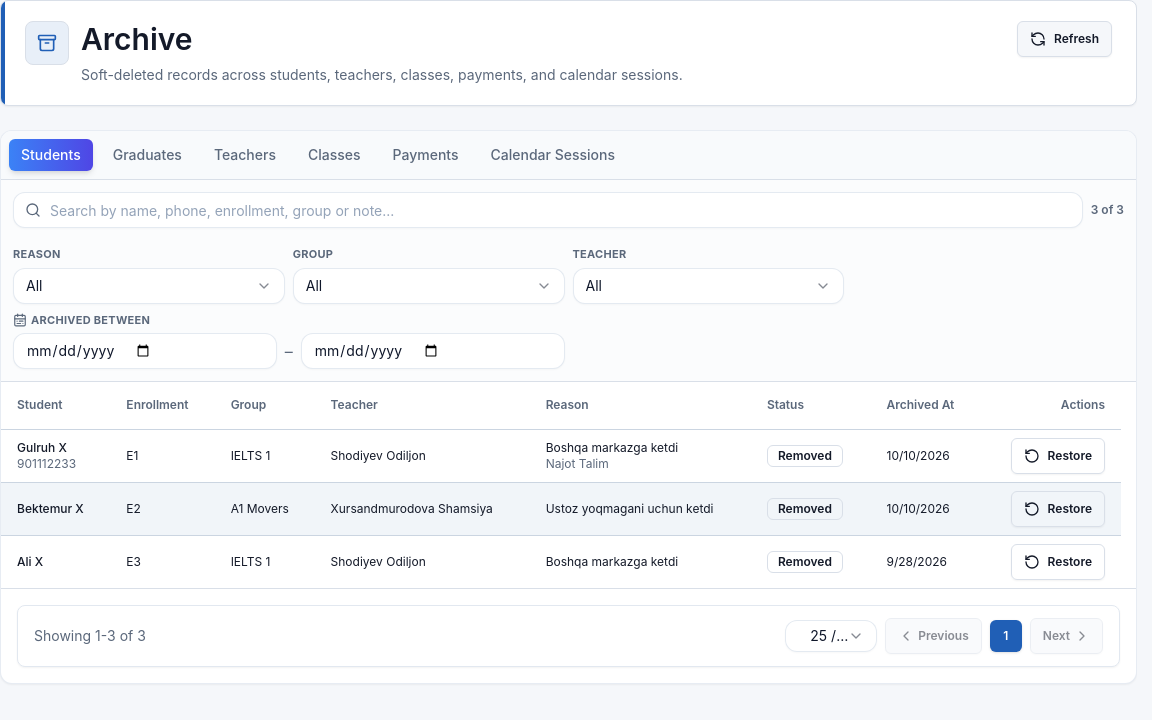
it: archive page search and filters › shows the reason and note, and searches by name, phone or note
Check: the text "Najot Talim" is shown, box [546, 456, 609, 471]
Check: the text "Ustoz yoqmagani uchun ketdi" is shown, box [530, 482, 751, 536]
In the field labelled "Search": (548, 210) [13, 192, 1083, 228], type "najot"
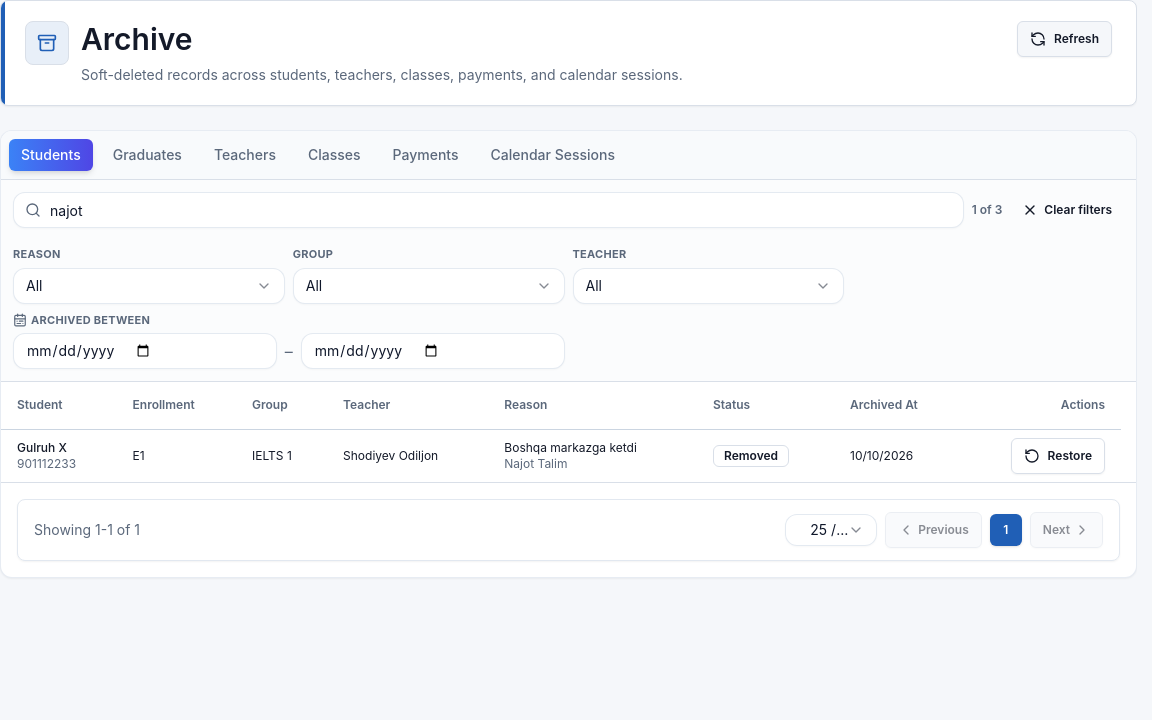
Check: the cell "Gulruh X 901112233" is shown, box [1, 430, 117, 482]
Check: the text "1 of 3" is shown, box [972, 202, 1002, 218]
Replace the text in the field named "Search" with "nobody": (488, 210) [13, 192, 964, 228]
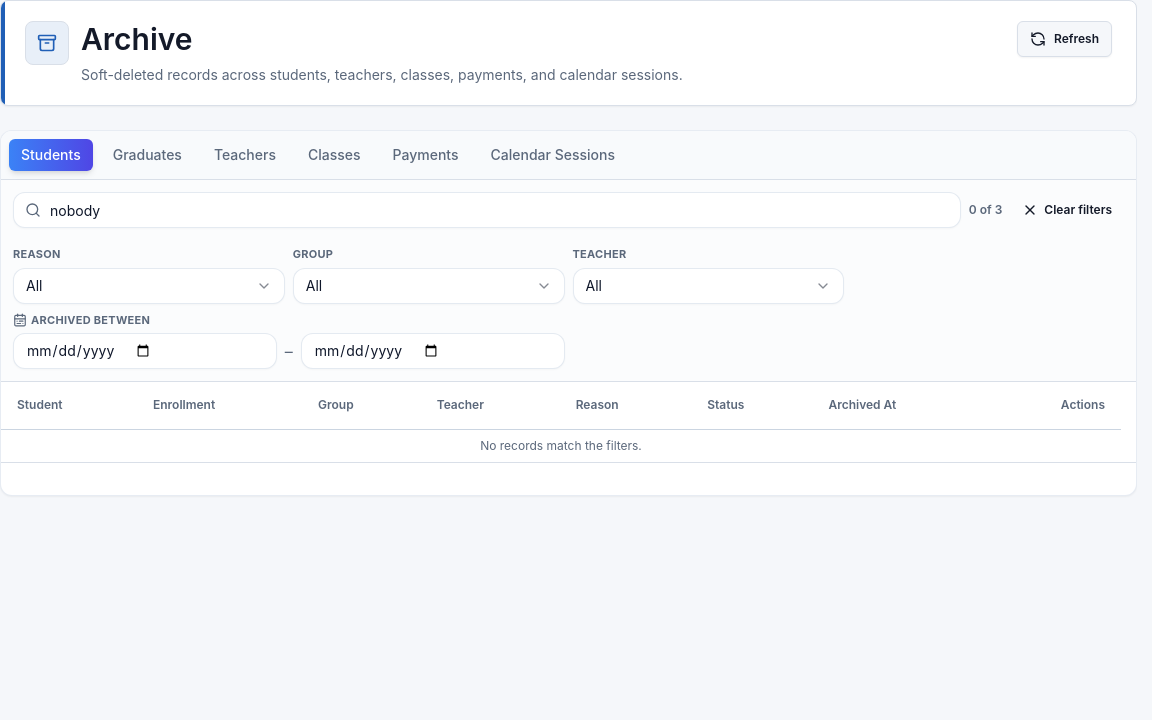
Check: the text "No records match the filters." is shown, box [1, 430, 1121, 462]
Click the button "Clear filters": (1067, 210) [1010, 192, 1124, 228]
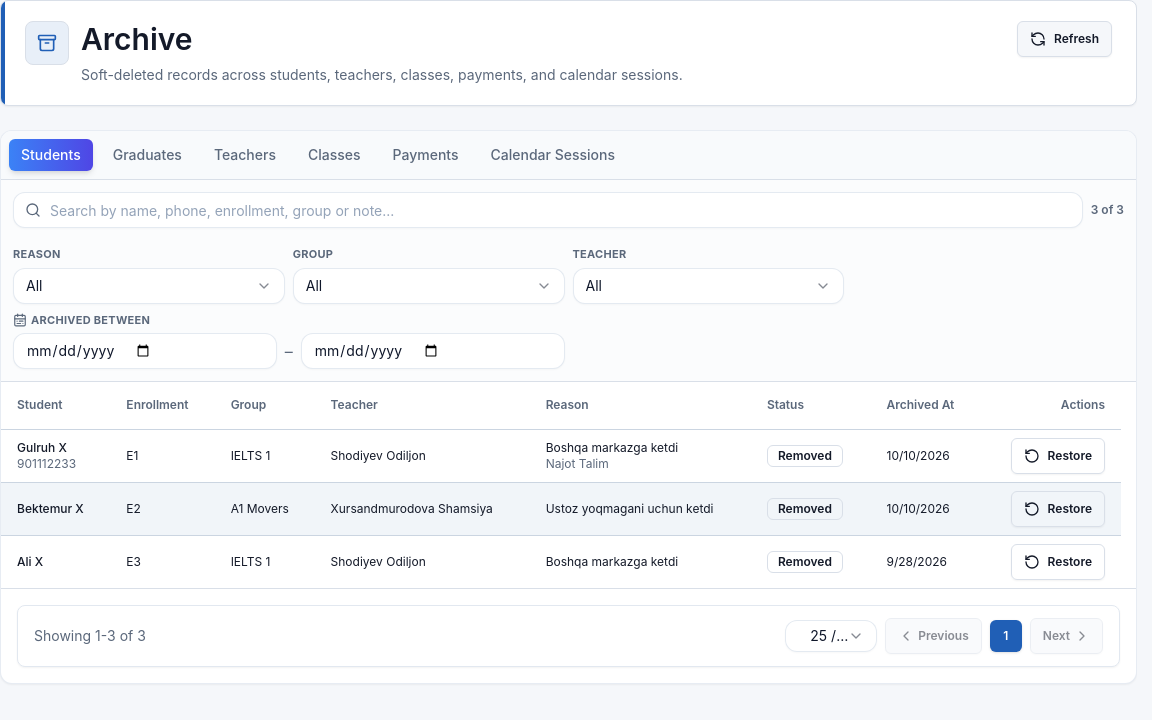
Check: the text "3 of 3" is shown, box [1091, 202, 1124, 218]
